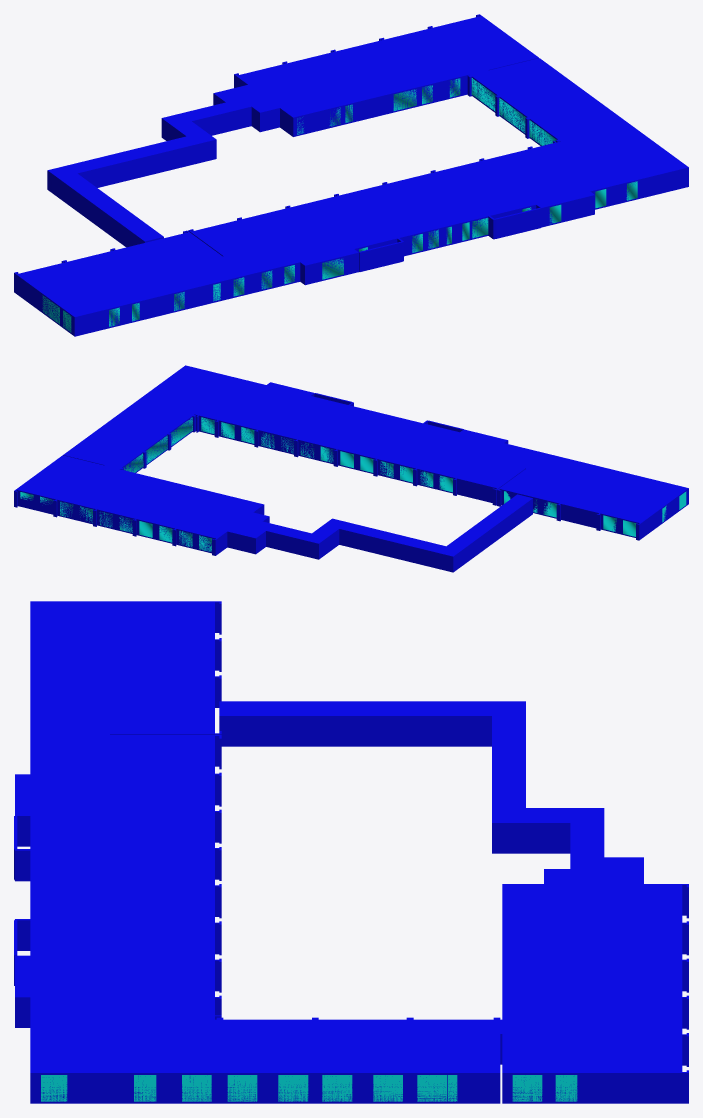
The picture shows the model from 3 angles, top to bottom: view 1: azimuth 30°, elevation 25°; view 2: azimuth 150°, elevation 25°; view 3: azimuth 270°, elevation 25°; orthographic projection. The views are drawn at different scales.
Visible parts, largest first — view 1: group_out_solid_mesh, group_out_windows_mesh; view 2: group_out_solid_mesh, group_out_windows_mesh; view 3: group_out_solid_mesh, group_out_windows_mesh.
Part boxes in pixels (x1,y1,x2,y2): group_out_solid_mesh: [14, 14, 688, 336]; group_out_windows_mesh: [42, 78, 637, 332]; group_out_solid_mesh: [14, 365, 688, 572]; group_out_windows_mesh: [20, 417, 686, 551]; group_out_solid_mesh: [14, 601, 688, 1103]; group_out_windows_mesh: [41, 1075, 577, 1101].
Bounding box in the file's own units: 98899 × 3000 × 59799.
